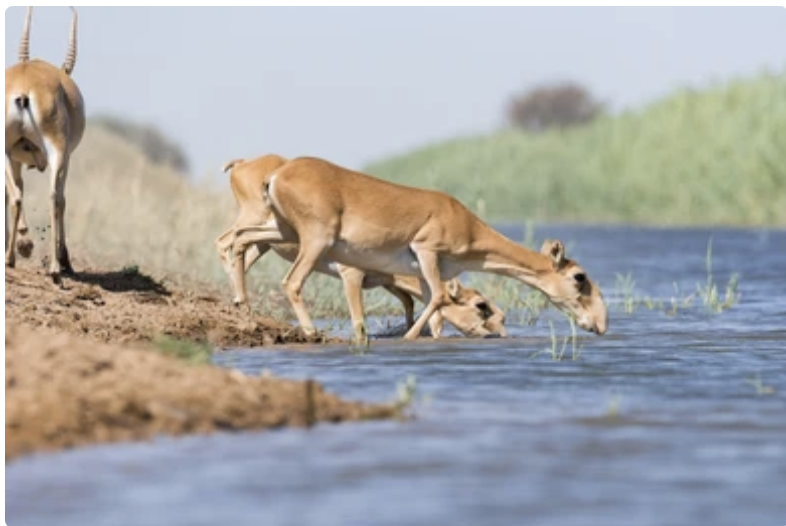saiga: (254, 146, 607, 369)
